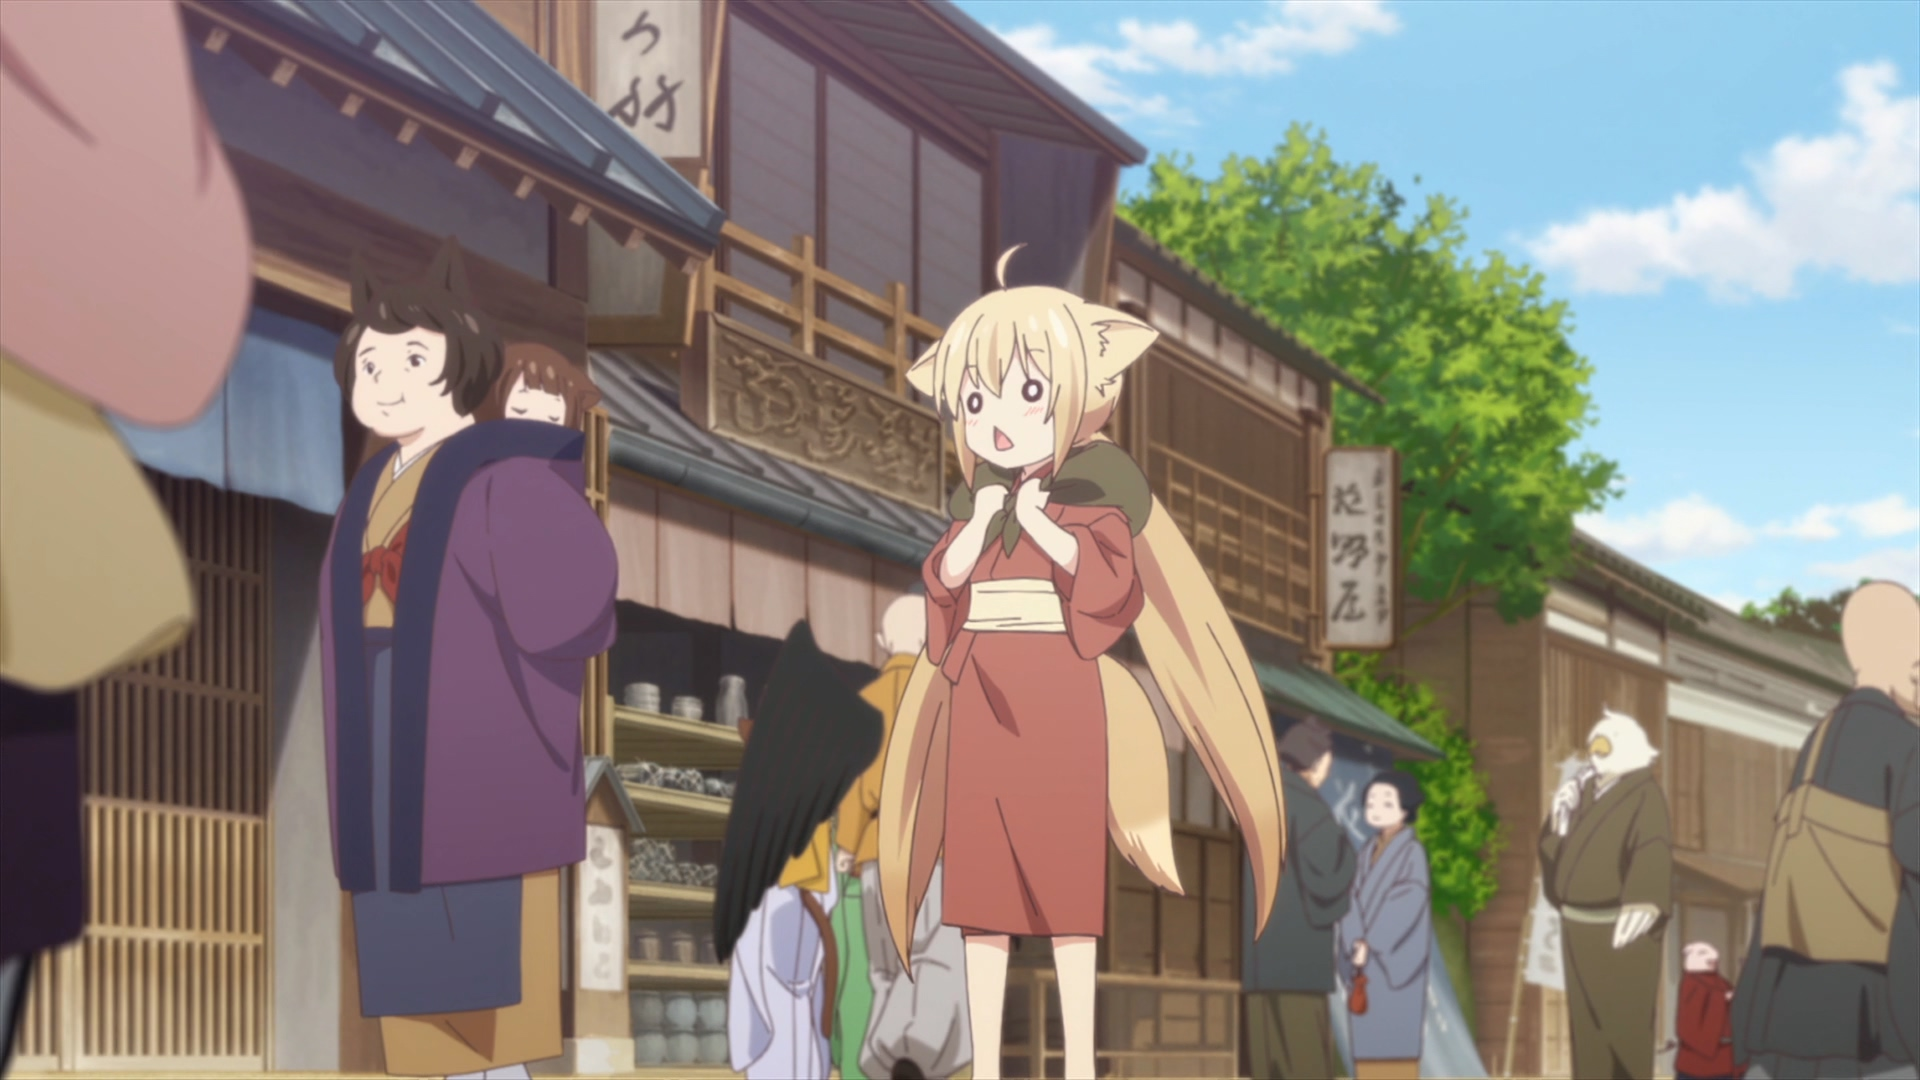其他: (1, 1, 251, 1080), (319, 229, 618, 1080), (709, 596, 967, 1080), (1734, 582, 1920, 1080), (1538, 705, 1675, 1080), (1238, 713, 1360, 1080), (1342, 769, 1433, 1080), (1677, 934, 1738, 1080)
柚: (876, 239, 1288, 1080)
